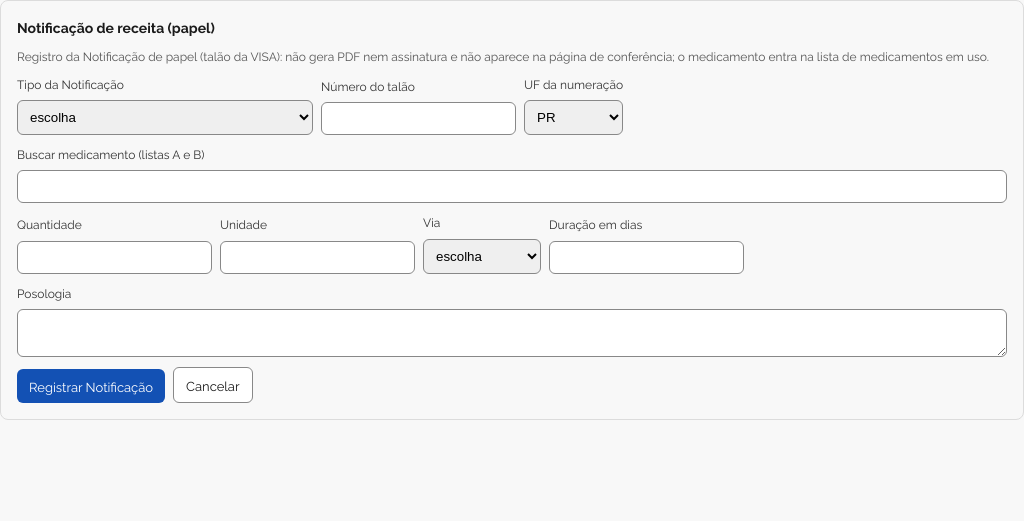
it: NotificationRecordForm › item fora das listas A/B fica bloqueado na busca
This screenshot has width=1024, height=521.
Type "mo" into the field labelled "Buscar medicamento (listas A e B)" at x=512, y=187, box [17, 170, 1007, 204]
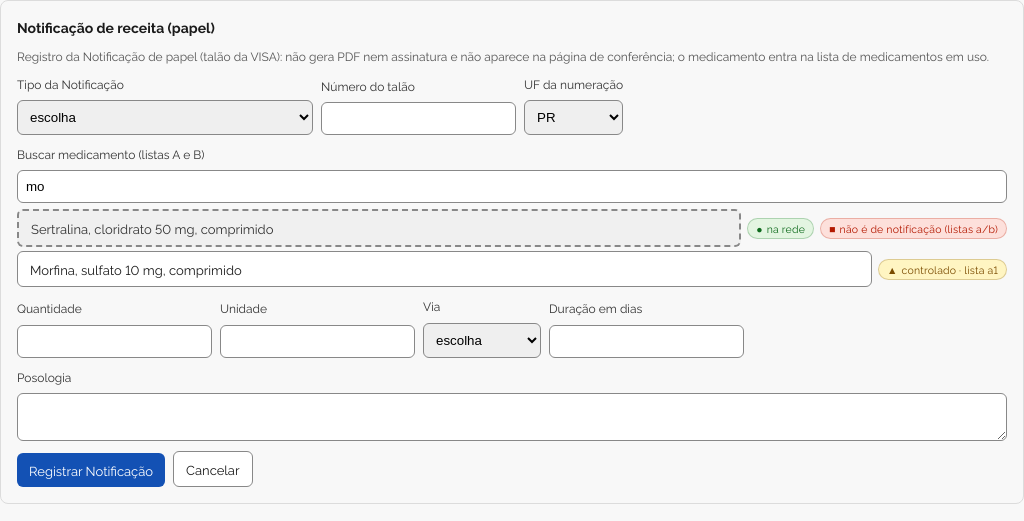
Expected: the button "Sertralina, cloridrato 50 mg, comprimido" is disabled, [17, 210, 741, 248]
Expected: the text "não é de Notificação (listas A/B)" is shown, [820, 218, 1007, 239]
Expected: the button "Morfina, sulfato 10 mg, comprimido" is enabled, [17, 252, 872, 288]
